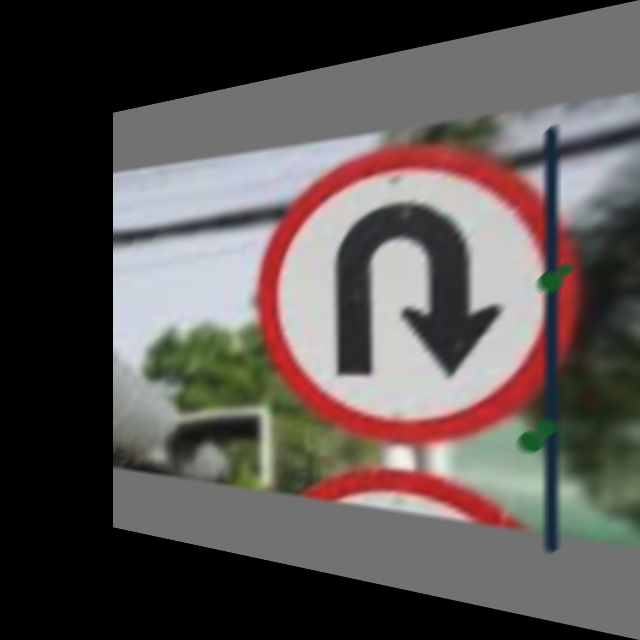U_Turn_Ahead: (260, 134, 575, 440)
